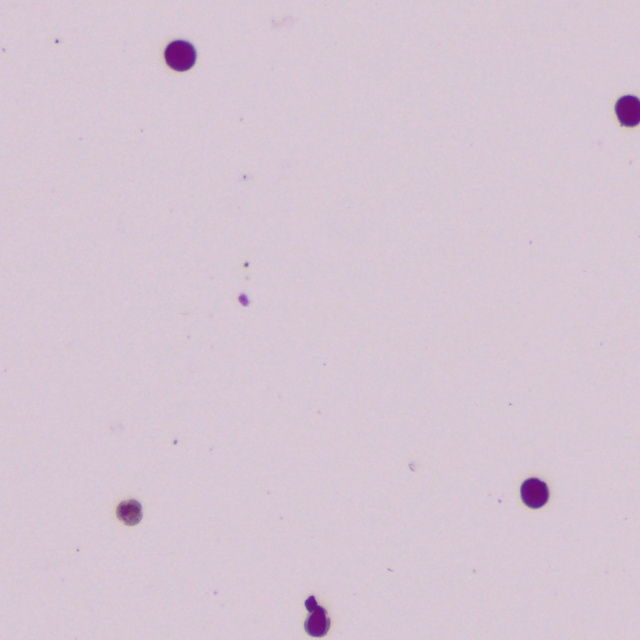viable: (305, 596, 330, 636), (165, 41, 195, 70), (521, 478, 548, 508), (616, 96, 639, 126), (117, 500, 142, 525)
